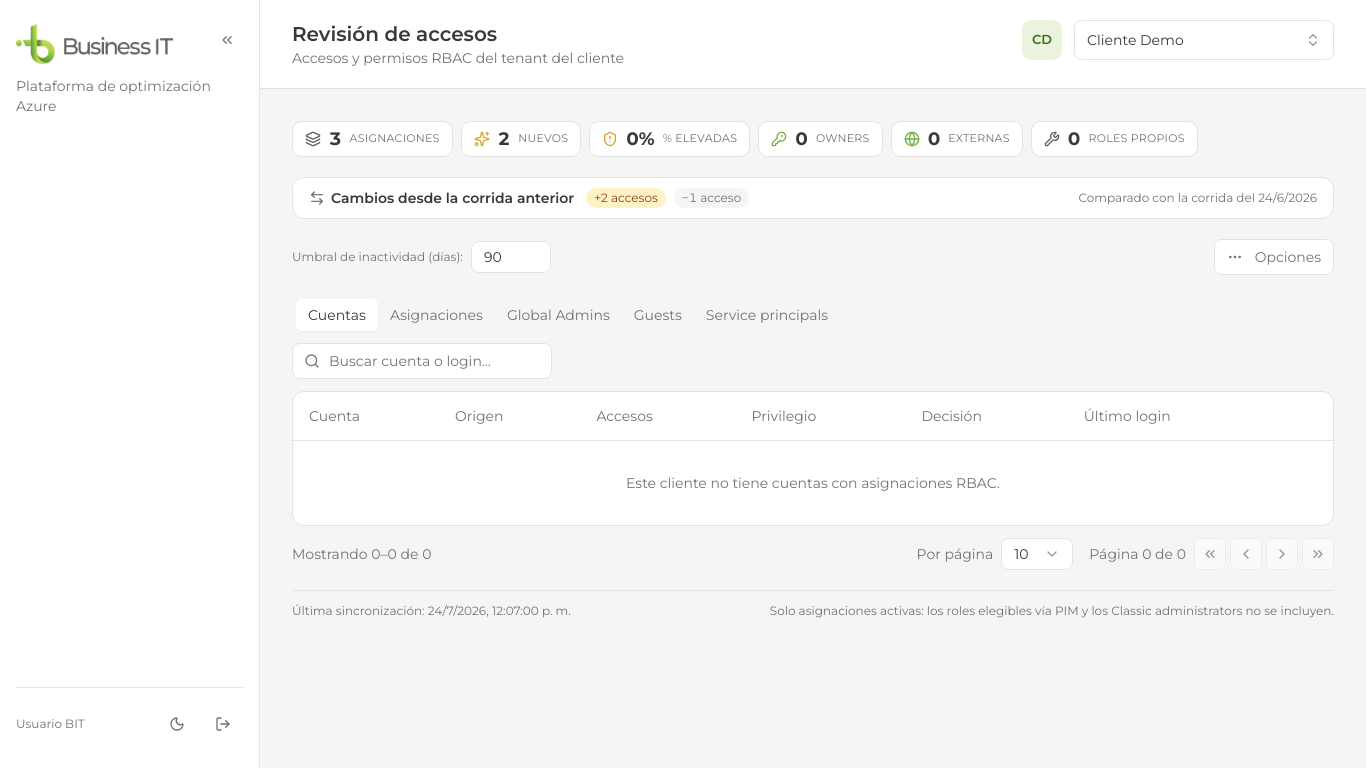
en Asignaciones, un ForeignGroup sin nombre tampoco se marca como eliminado
Press the mouse on the tab "Asignaciones" at x=436, y=315, box [378, 299, 495, 331]
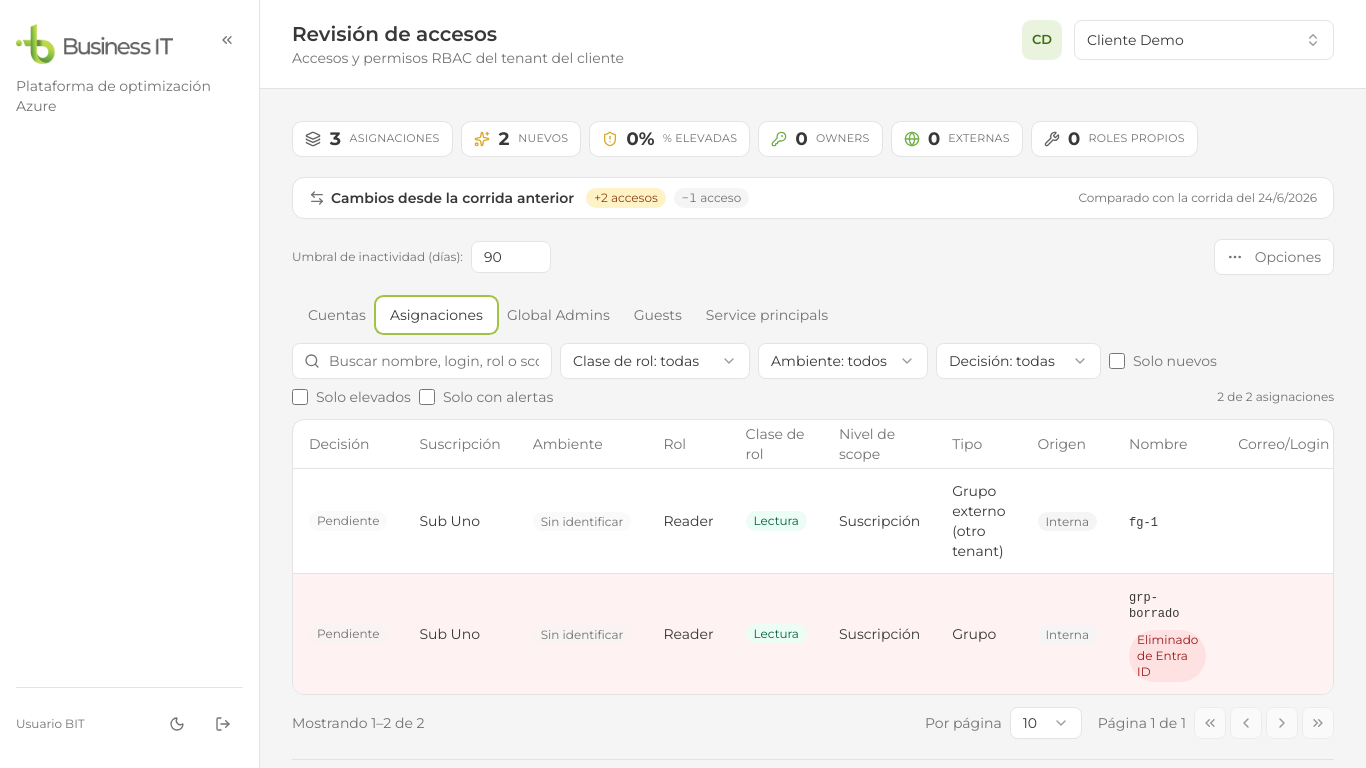
Check: the text "fg-1" is shown, box [1129, 514, 1158, 530]
Check: the text "Eliminado de Entra ID" is shown once, box [1129, 630, 1206, 682]
